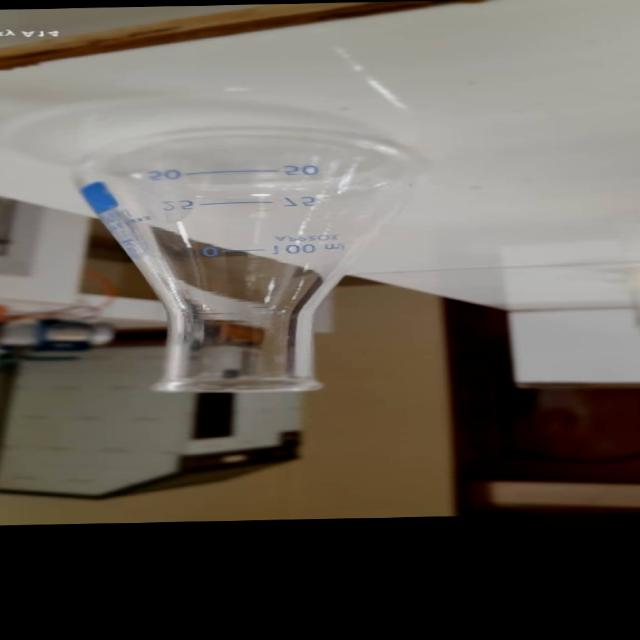Conical Flask: (61, 123, 450, 400)
